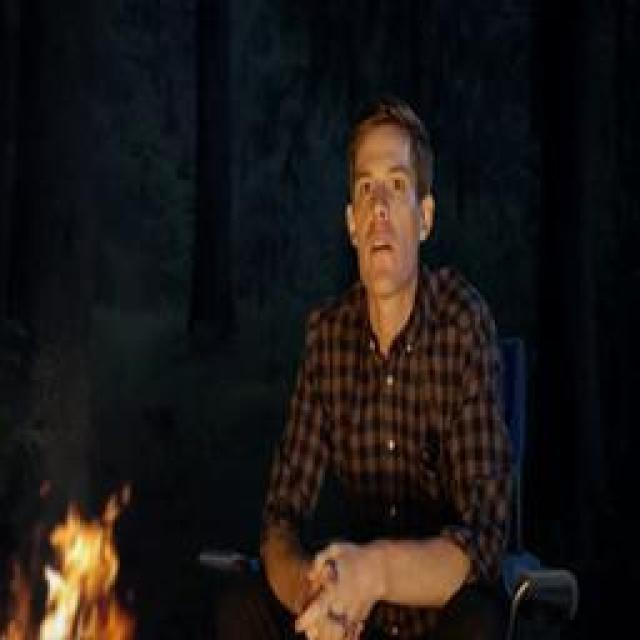Fire: (7, 487, 132, 640)
